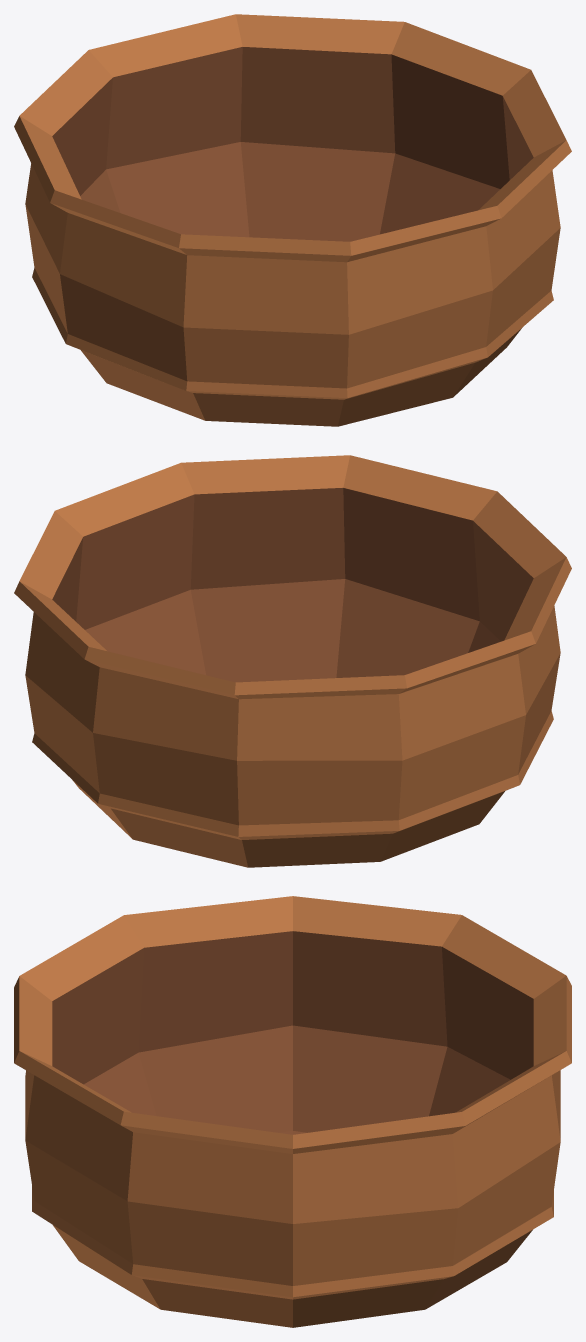
Rendered from SM_Prop_Copper_Bowl_Large_01.fbx.
3 views of the same model, one above another, from view 1: azimuth 30°, elevation 25°; view 2: azimuth 150°, elevation 25°; view 3: azimuth 270°, elevation 25° (orthographic). The views are drawn at different scales.
Visible parts, largest first — view 1: SM_Prop_Copper_Bowl_Large_01; view 2: SM_Prop_Copper_Bowl_Large_01; view 3: SM_Prop_Copper_Bowl_Large_01.
Part boxes in pixels (x1,y1,x2,y2): SM_Prop_Copper_Bowl_Large_01: [14, 14, 571, 426]; SM_Prop_Copper_Bowl_Large_01: [14, 455, 571, 867]; SM_Prop_Copper_Bowl_Large_01: [14, 896, 571, 1327].
Bounding box in the file's own units: 136 × 59.94 × 129.
